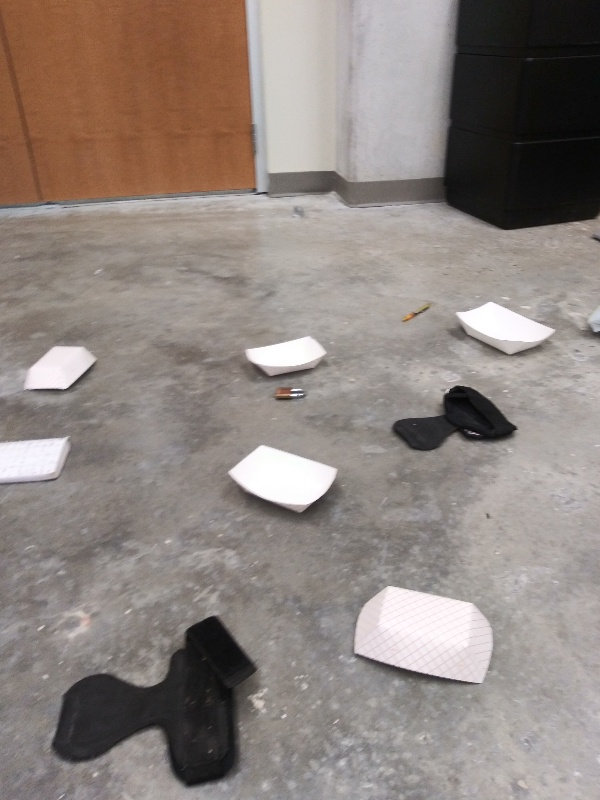plate: (350, 586, 497, 693), (224, 443, 341, 518), (450, 298, 559, 359), (20, 340, 98, 397), (240, 335, 329, 377)
